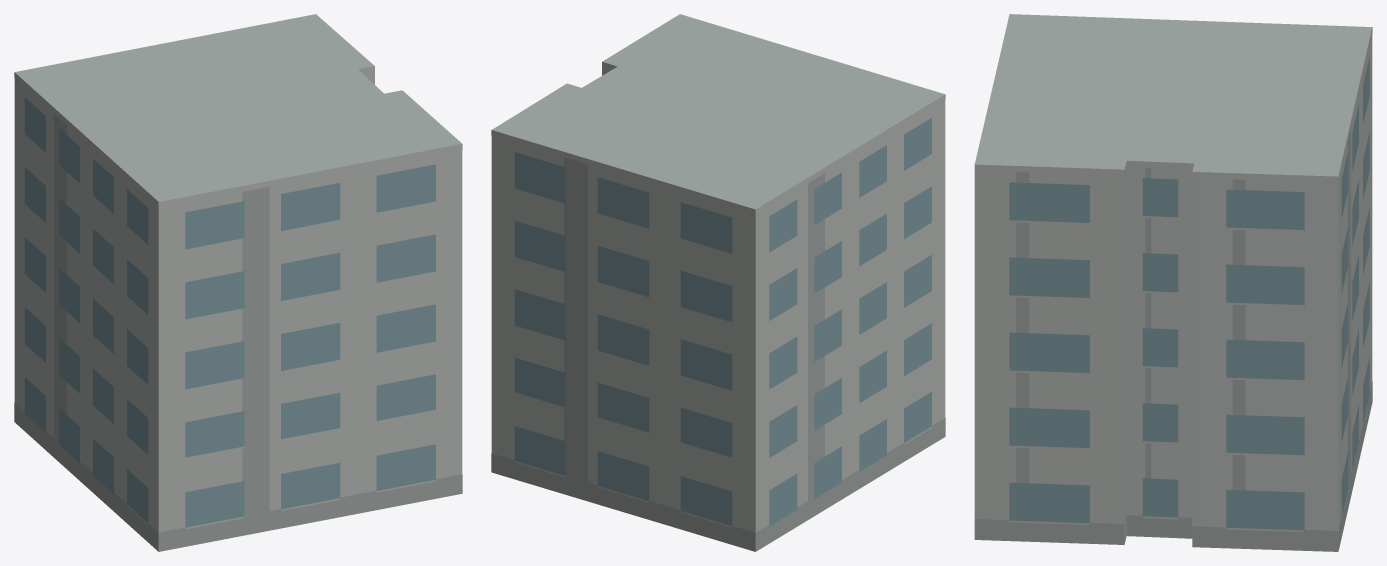
File: survey-upis-32921276.glb
3 renders of one model, left to right at view 1: azimuth 30°, elevation 25°; view 2: azimuth 150°, elevation 25°; view 3: azimuth 270°, elevation 25°, orthographic. The views are drawn at different scales.
Visible parts, largest first — view 1: survey-upis-32921276.tmp; view 2: survey-upis-32921276.tmp; view 3: survey-upis-32921276.tmp.
Boxes of the visible parts, <box> form: survey-upis-32921276.tmp: <box>14,14,462,551</box>; survey-upis-32921276.tmp: <box>491,14,945,551</box>; survey-upis-32921276.tmp: <box>974,14,1372,551</box>.
Bounding box in the file's own units: 13.62 × 14.65 × 14.08.
